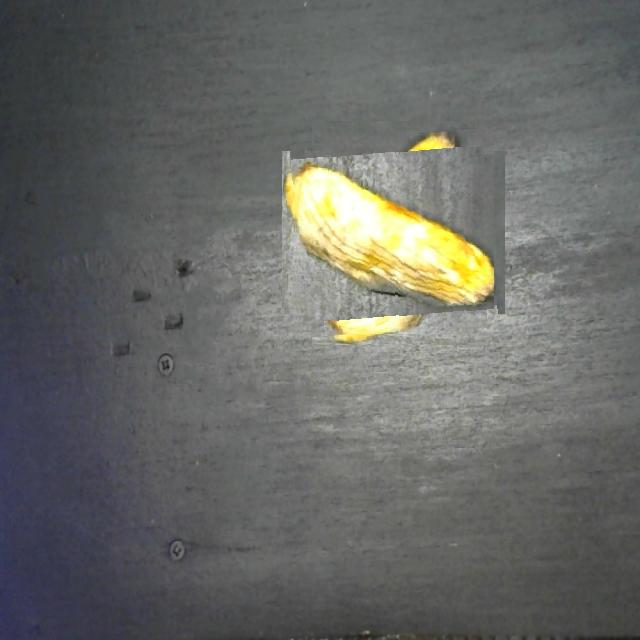biodegradable: (293, 132, 494, 334)
